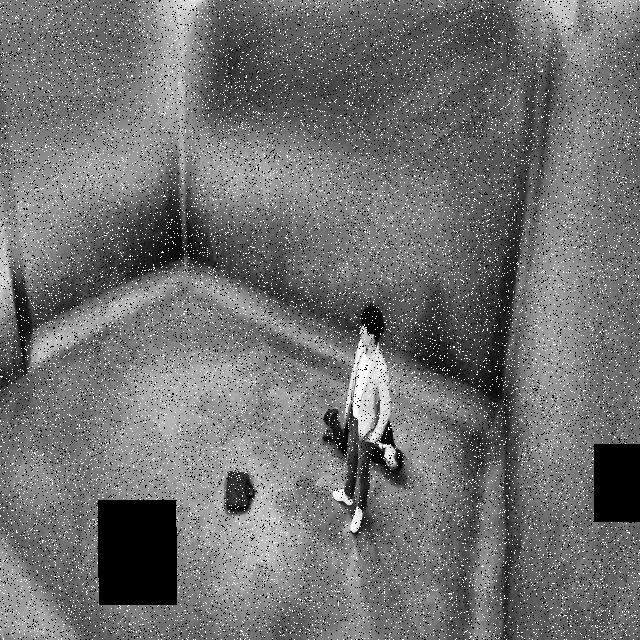assult: (313, 300, 414, 530)
